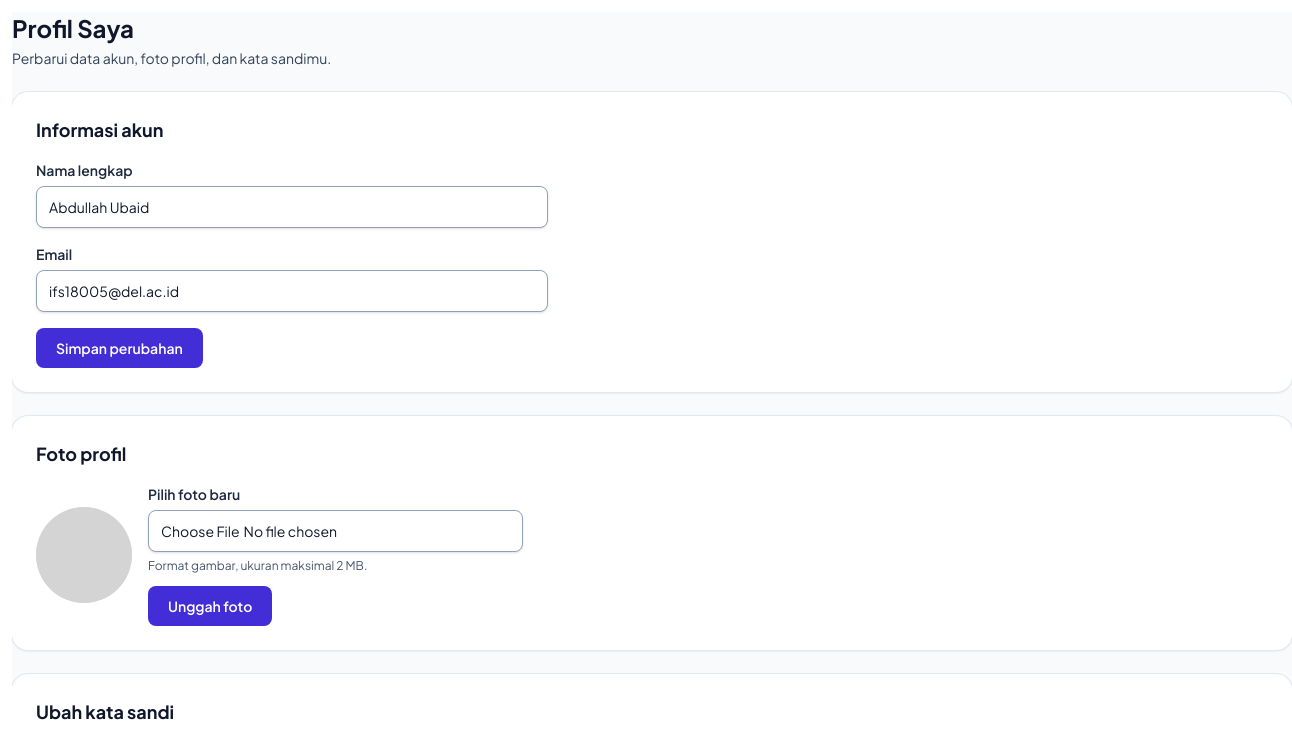
it: ProfilePage › InfoSection › should show validation errors when name is empty or email is invalid
Clear the field labelled "Nama lengkap" at (292, 207), box [36,186,548,228]
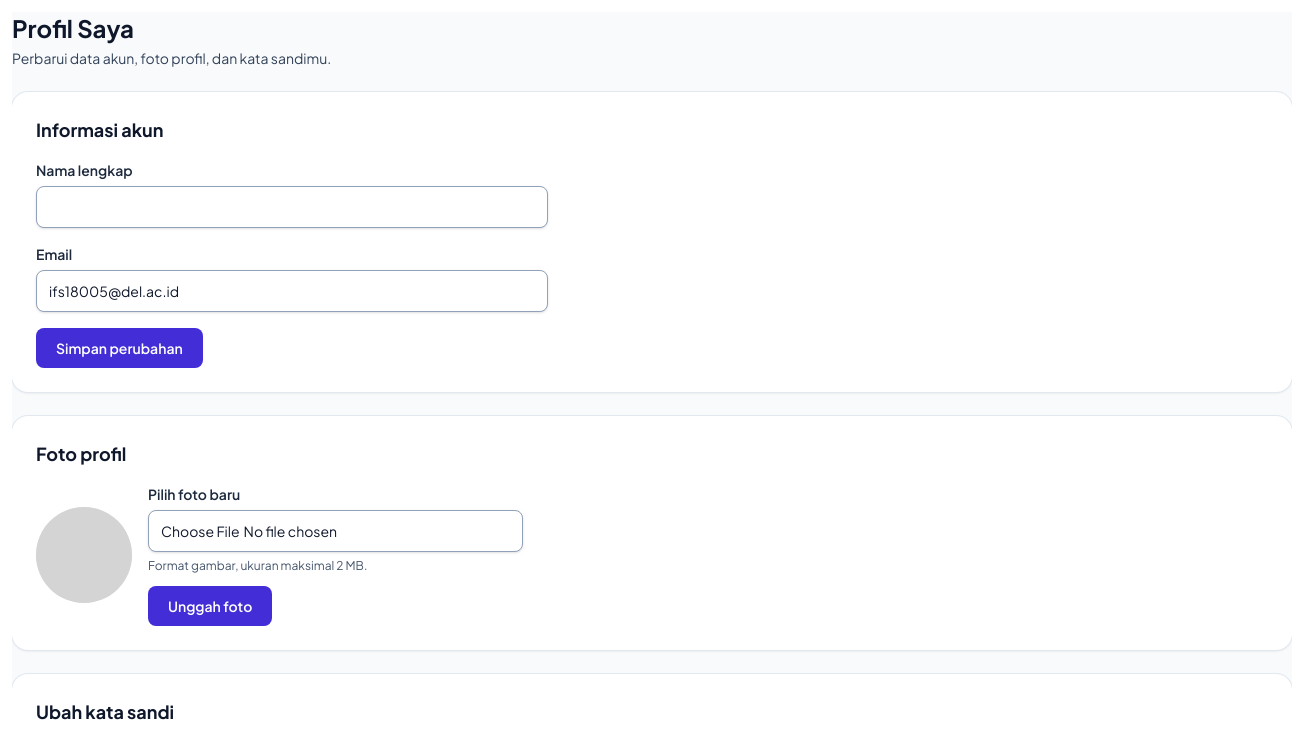
Replace the text in the field labelled "Email" with "invalid-email" at (292, 291), box [36,270,548,312]
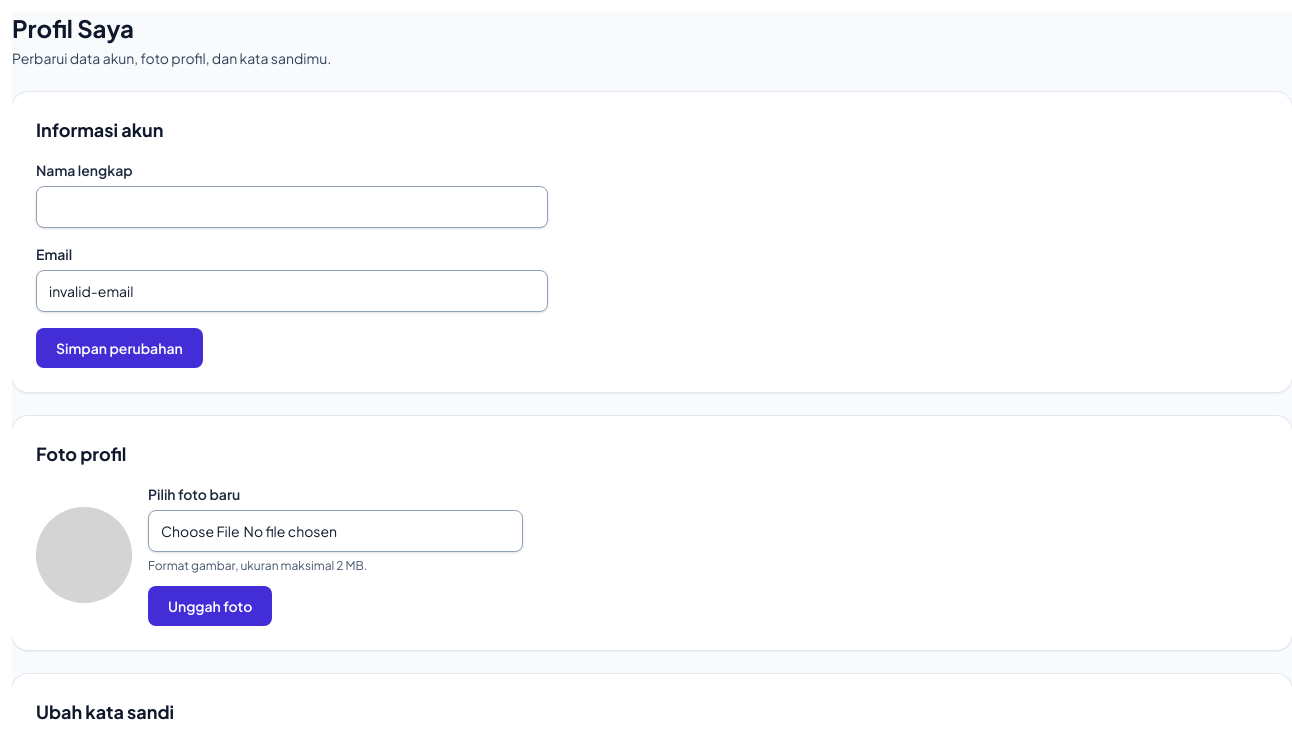
Click the button "Simpan perubahan".
click(119, 348)  # box [36,328,203,368]
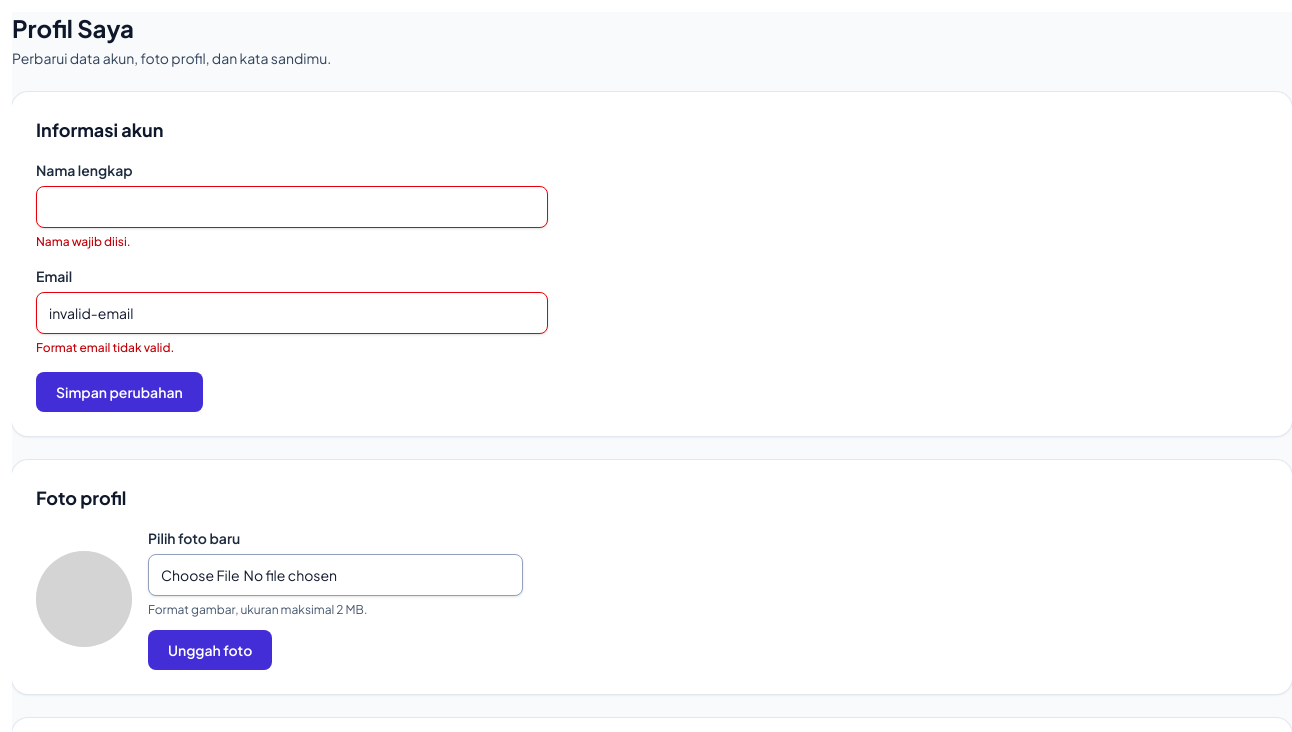
Expected: the text "Nama wajib diisi." is shown, [36,234,131,249]
Expected: the text "Format email tidak valid." is shown, [36,340,174,355]
